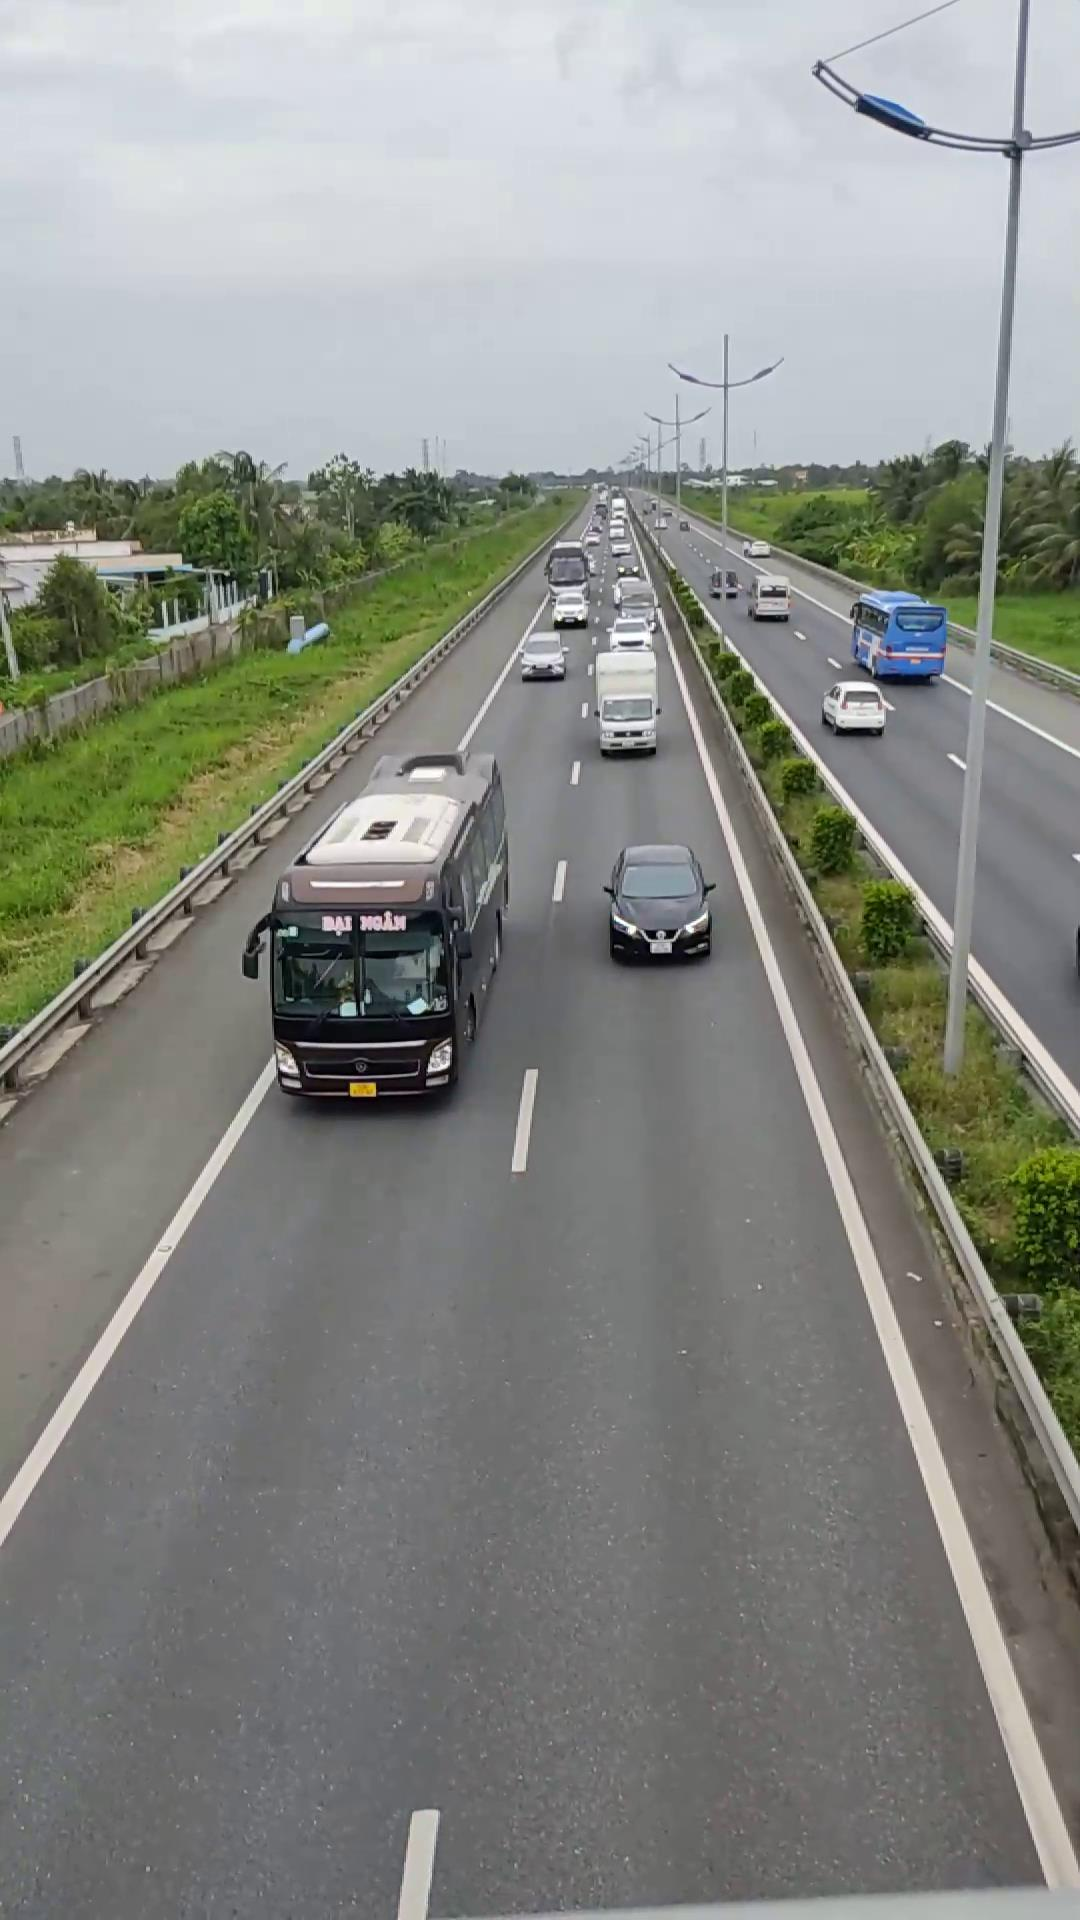bus: (251, 750, 512, 1106)
car: (604, 841, 715, 961)
truck: (851, 586, 948, 681), (590, 635, 663, 756)
